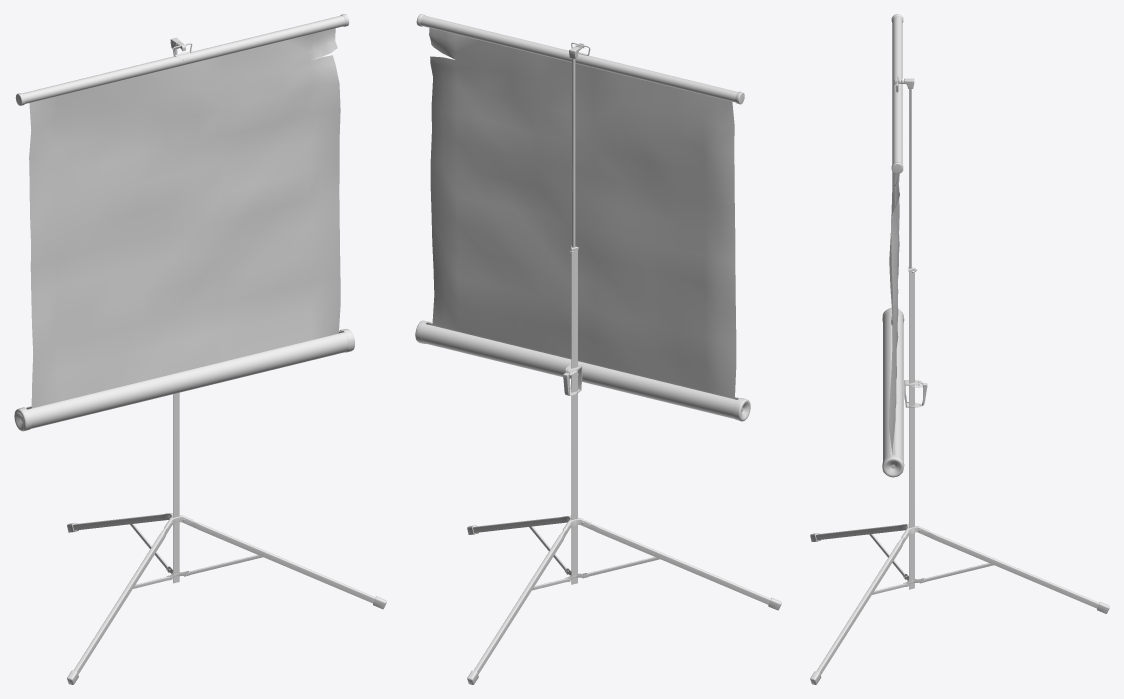
File: projector_screen_2k.gltf
3 views of the same model, side by side, from view 1: azimuth 30°, elevation 25°; view 2: azimuth 150°, elevation 25°; view 3: azimuth 270°, elevation 25° (orthographic). The views are drawn at different scales.
Visible parts, largest first — view 1: projector_screen, projector_screen_frame; view 2: projector_screen, projector_screen_frame; view 3: projector_screen, projector_screen_frame.
Part boxes in pixels (bbox=[...]): projector_screen: bbox=[14, 14, 354, 431]; projector_screen_frame: bbox=[67, 392, 386, 684]; projector_screen: bbox=[415, 14, 750, 421]; projector_screen_frame: bbox=[467, 245, 781, 684]; projector_screen: bbox=[882, 14, 927, 477]; projector_screen_frame: bbox=[810, 267, 1109, 684].
Size of the model in its own units: 1.09 by 1.8 by 0.9158.
Materials: 2 (2 with a texture image).
